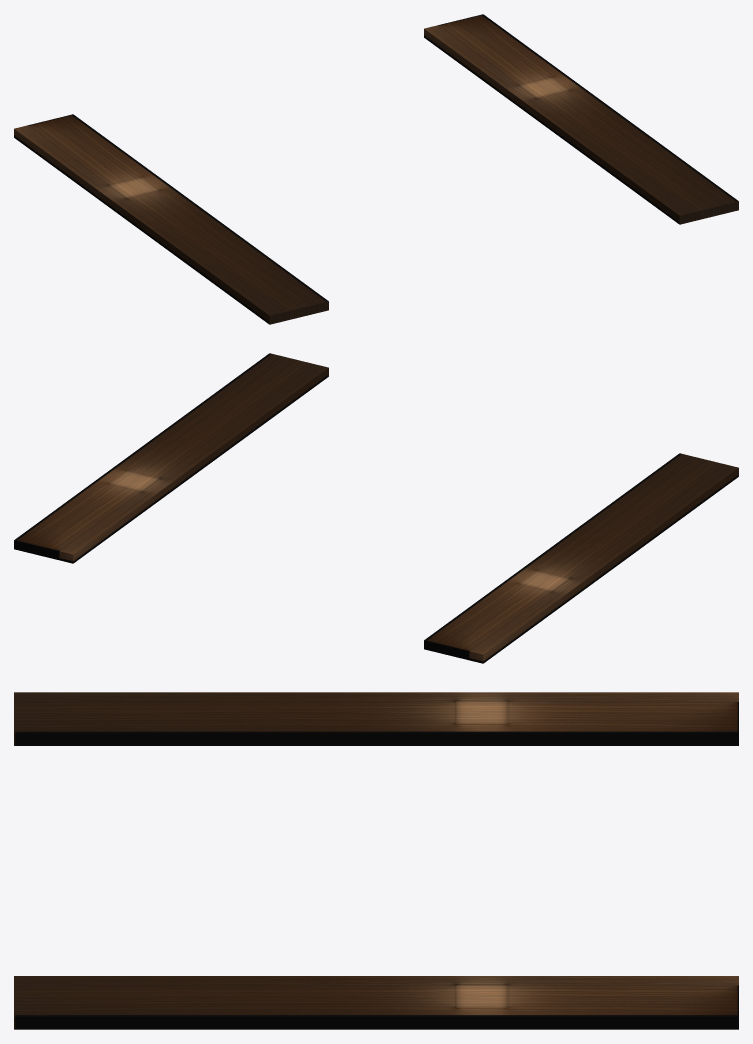
The picture shows the model from 3 angles, top to bottom: view 1: azimuth 30°, elevation 25°; view 2: azimuth 150°, elevation 25°; view 3: azimuth 270°, elevation 25°; orthographic projection. The views are drawn at different scales.
Visible parts, largest first — view 1: Room; view 2: Room; view 3: Room.
Boxes of the visible parts, <box> form: Room: <box>14,14,738,324</box>; Room: <box>14,353,738,663</box>; Room: <box>14,692,738,1029</box>.
Bounding box in the file's own units: 26.2 × 0.4803 × 24.71.
Materials: 1 (1 with a texture image).
